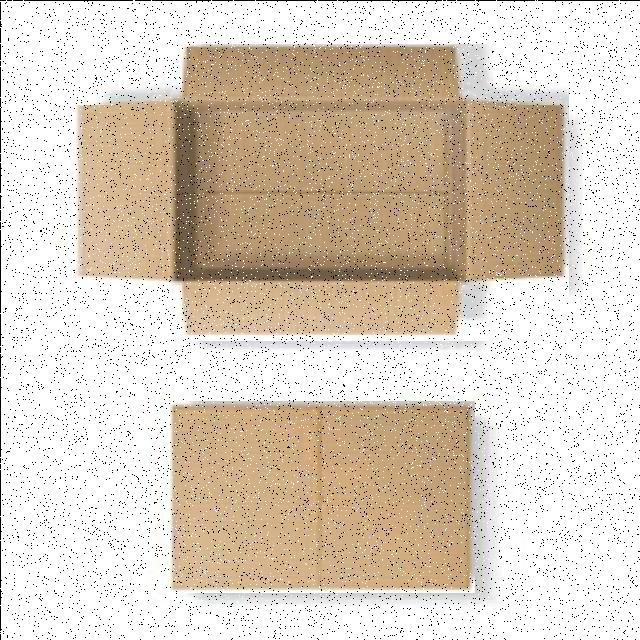defect: (74, 43, 568, 340)
normal: (164, 400, 474, 592)
